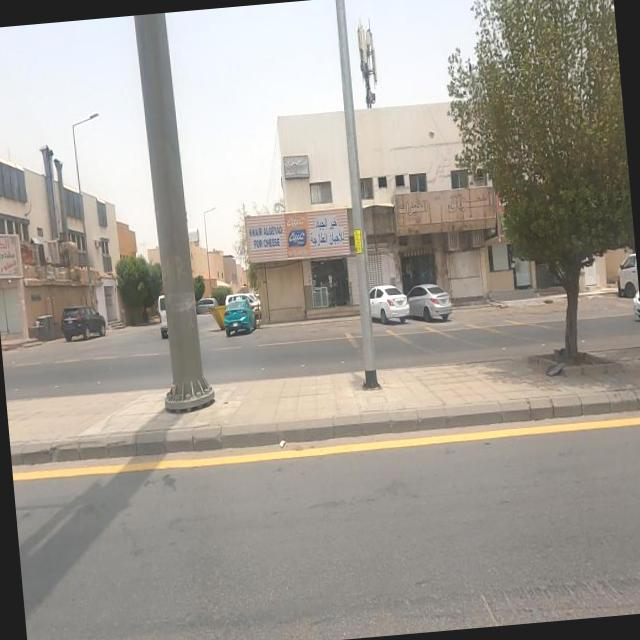debris: (336, 143, 544, 270)
